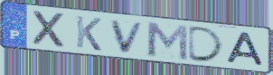A: (225, 31, 266, 68)
D: (187, 25, 227, 64)
K: (75, 14, 104, 53)
M: (145, 20, 190, 62)
V: (109, 19, 147, 55)
X: (31, 9, 68, 50)
